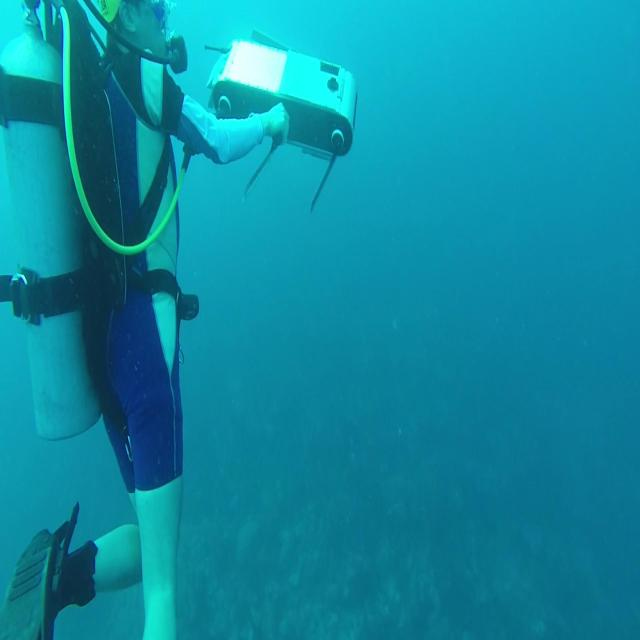human: (1, 0, 292, 638)
